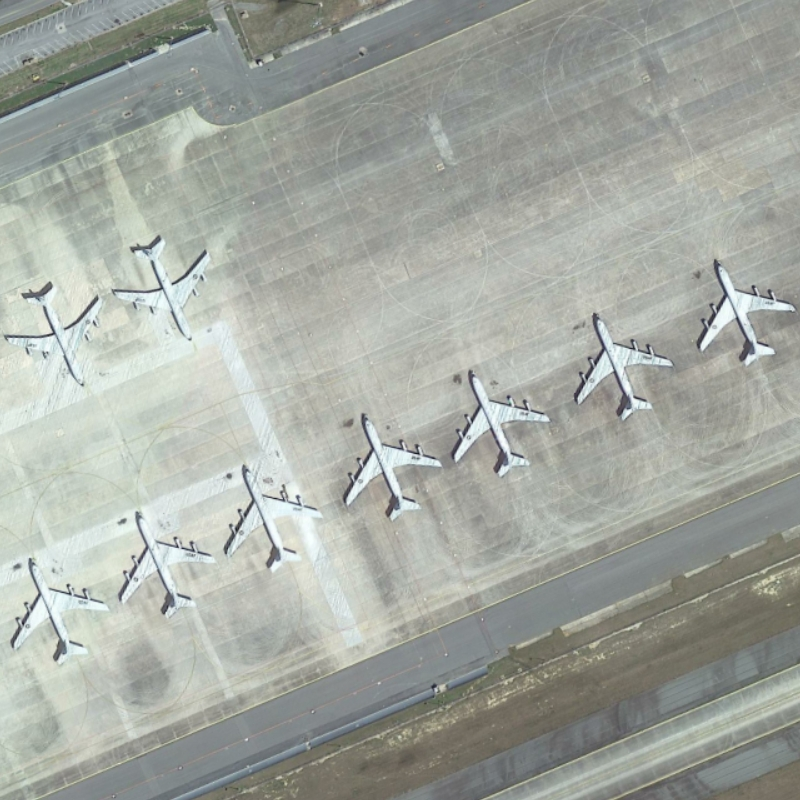A11: (572, 308, 679, 424), (338, 408, 444, 524), (8, 553, 113, 670), (692, 256, 799, 367), (450, 364, 554, 478), (222, 461, 325, 575), (108, 236, 216, 344), (2, 277, 106, 389), (116, 509, 217, 618)
